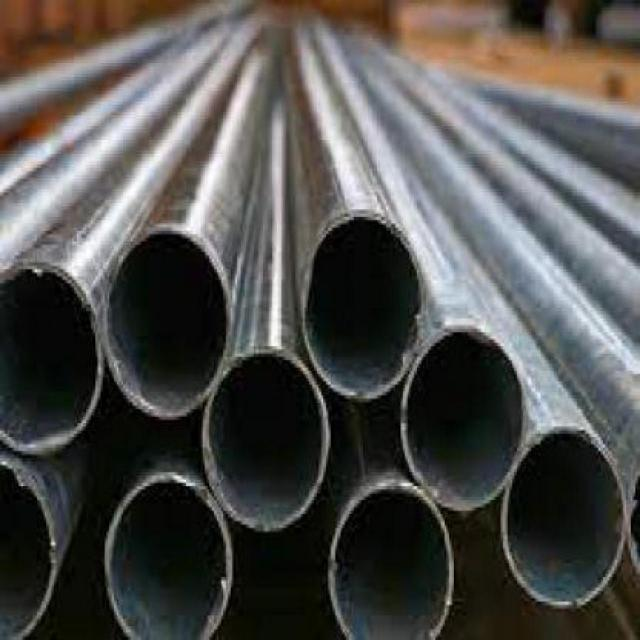pipe: (103, 226, 234, 419), (301, 207, 426, 400), (400, 324, 527, 512), (203, 346, 330, 531), (503, 427, 626, 606), (105, 472, 232, 639), (329, 481, 456, 639), (0, 259, 102, 453), (0, 457, 62, 640)
